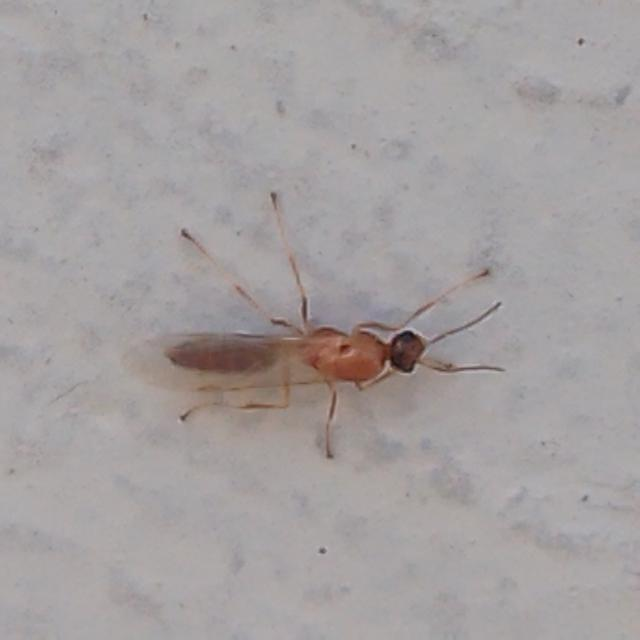Camponotus: (122, 247, 498, 451)
